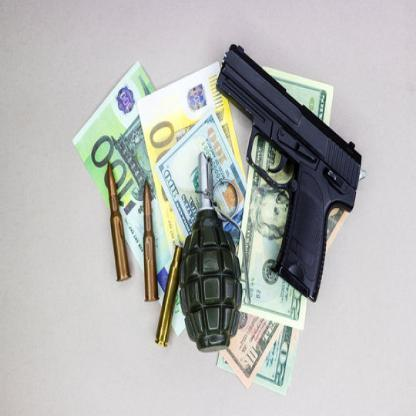Grenade: (179, 153, 252, 355)
Pistol: (216, 41, 367, 303)
